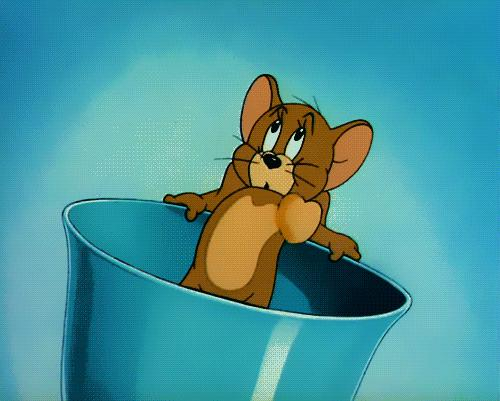jerry: (162, 73, 375, 311)
